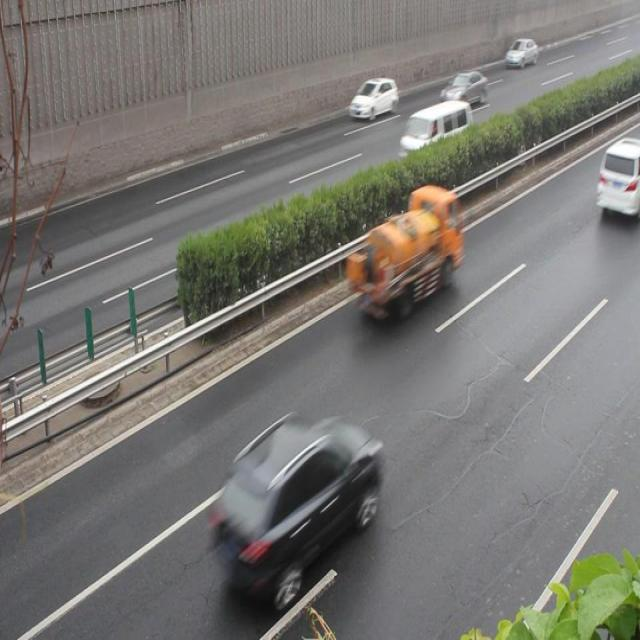bus: (348, 187, 461, 316)
car: (211, 412, 376, 590), (594, 141, 640, 219), (349, 79, 397, 121), (439, 70, 486, 110), (504, 38, 536, 71)
truck: (400, 100, 471, 170)
